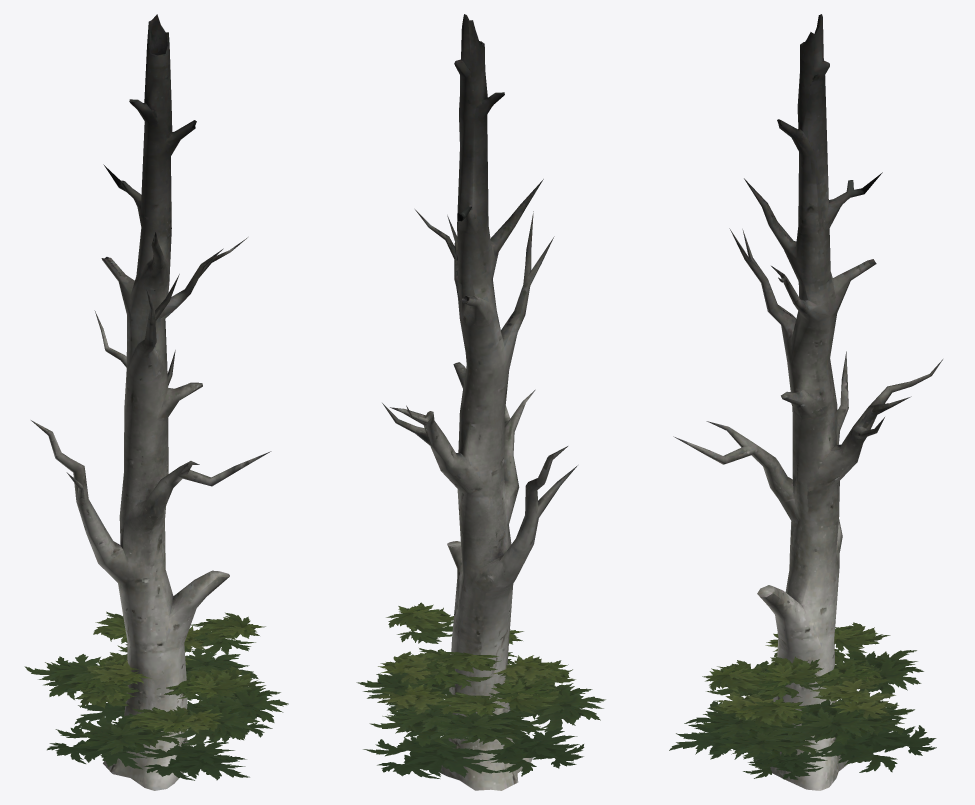
File: tree_oak_05.fbx
3 views of the same model, side by side, from view 1: azimuth 30°, elevation 25°; view 2: azimuth 150°, elevation 25°; view 3: azimuth 270°, elevation 25° (orthographic).
Parts seen in each view (by area): view 1: tree_oak_05; view 2: tree_oak_05; view 3: tree_oak_05.
Part boxes in pixels (left/top/right/bottom): tree_oak_05: left=24, top=14, right=288, bottom=790; tree_oak_05: left=356, top=14, right=605, bottom=790; tree_oak_05: left=669, top=14, right=942, bottom=790.
Bounding box in the file's own units: 16584 × 49780 × 17984.
